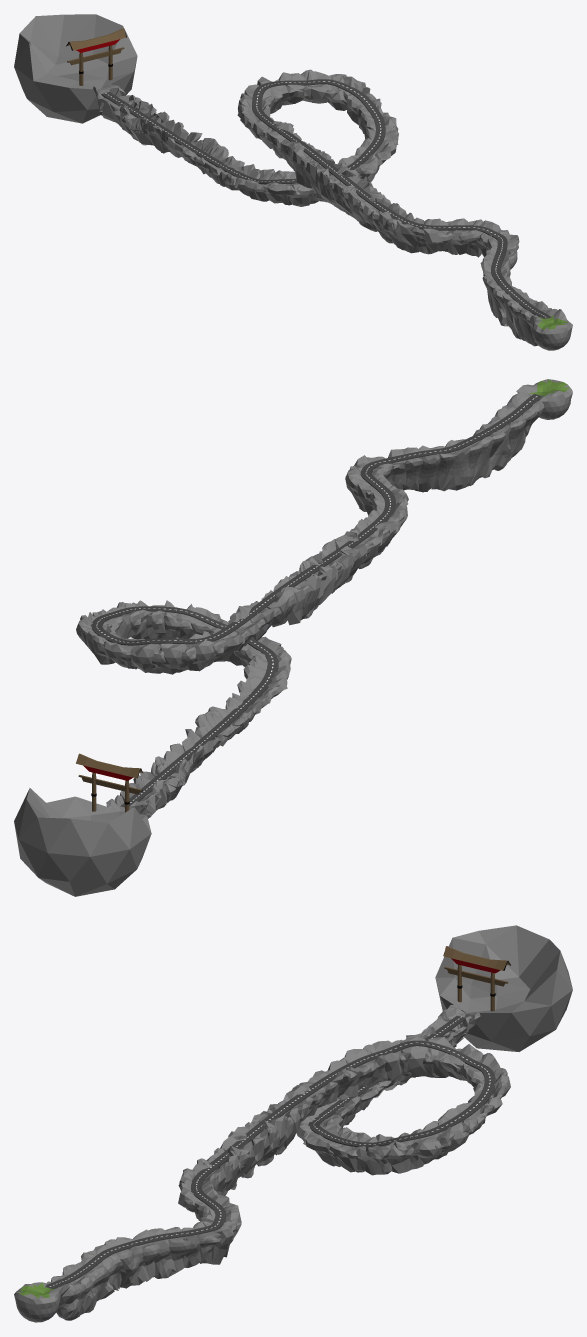
File: Road 1.fbx
3 views of the same model, one above another, from view 1: azimuth 30°, elevation 25°; view 2: azimuth 150°, elevation 25°; view 3: azimuth 330°, elevation 25° (orthographic). The views are drawn at different scales.
Visible parts, largest first — view 1: Cliff, Road, Stand; view 2: Cliff, Road, Stand; view 3: Cliff, Road, Stand.
Boxes of the visible parts, x1=… form: Cliff: x1=14, y1=14, x2=572, y2=350; Road: x1=101, y1=79, x2=551, y2=318; Stand: x1=66, y1=28, x2=126, y2=85; Cliff: x1=14, y1=379, x2=572, y2=896; Road: x1=91, y1=394, x2=541, y2=807; Stand: x1=76, y1=753, x2=142, y2=812; Cliff: x1=14, y1=925, x2=572, y2=1322; Road: x1=45, y1=1015, x2=495, y2=1288; Stand: x1=443, y1=946, x2=510, y2=1011.
Size of the model in its own units: 1165 by 667 by 4927.
